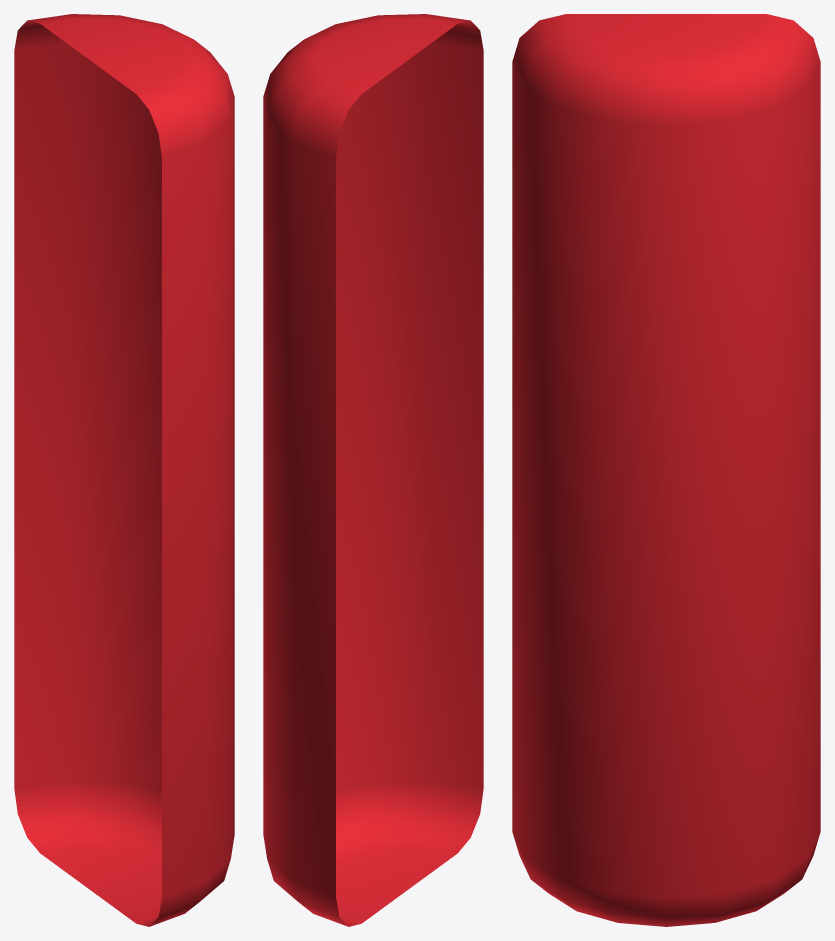
File: Lid.fbx
3 views of the same model, side by side, from view 1: azimuth 30°, elevation 25°; view 2: azimuth 150°, elevation 25°; view 3: azimuth 270°, elevation 25° (orthographic). The views are drawn at different scales.
Visible parts, largest first — view 1: 柱体.002; view 2: 柱体.002; view 3: 柱体.002.
Part boxes in pixels (x1,y1,x2,y2): 柱体.002: [14, 14, 234, 926]; 柱体.002: [263, 14, 483, 926]; 柱体.002: [512, 14, 820, 926].
Size of the model in its own units: 110 by 682 by 220.
